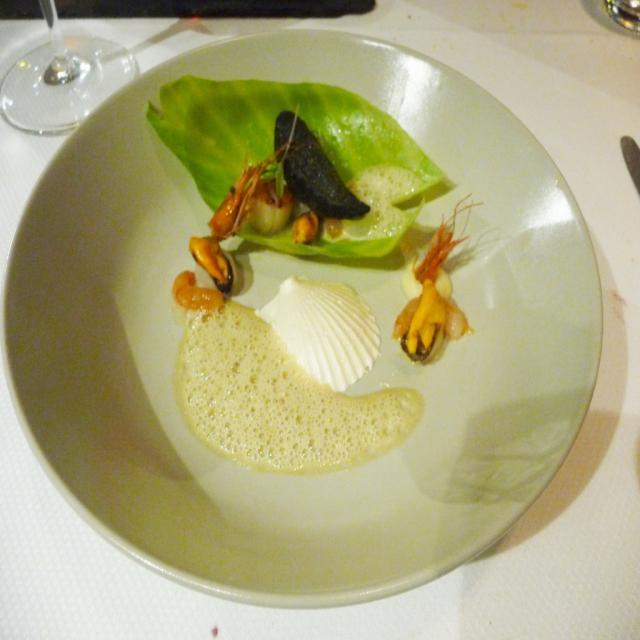ceramic plate: (7, 32, 624, 610)
